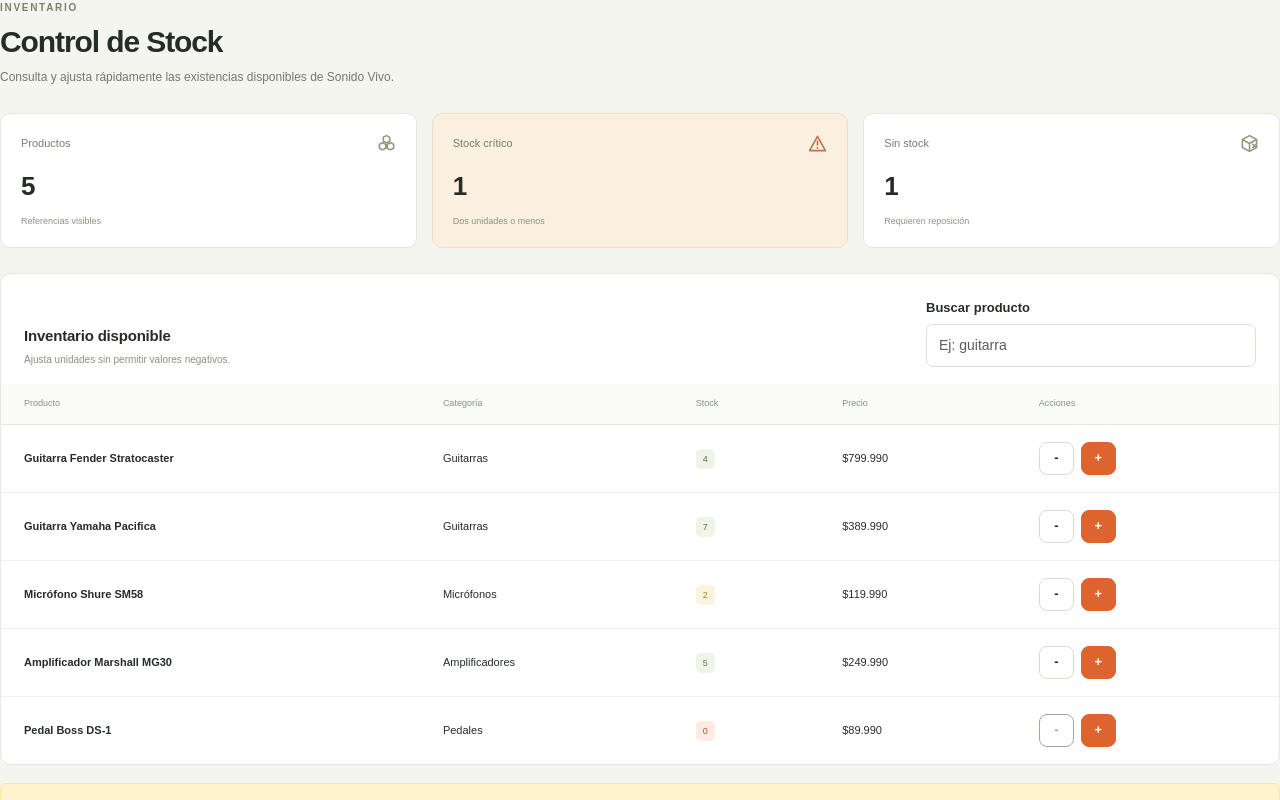
ControlStockPage integrado › muestra mensaje cuando no existen coincidencias
Type "producto inexistente" into the field with placeholder "Ej: guitarra" at {"x": 1091, "y": 346}, box [926, 324, 1256, 367]
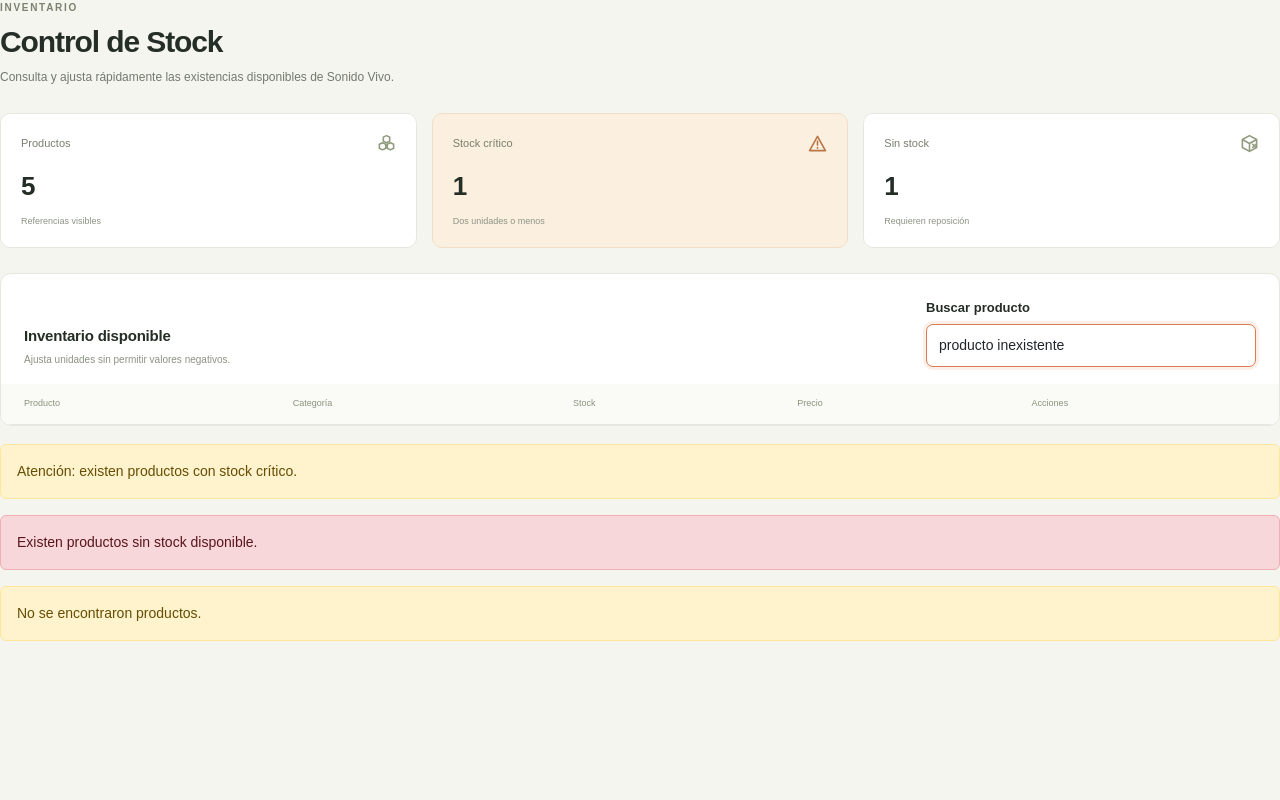
Result: the text "No se encontraron productos." is shown at [0, 586, 1279, 641]
